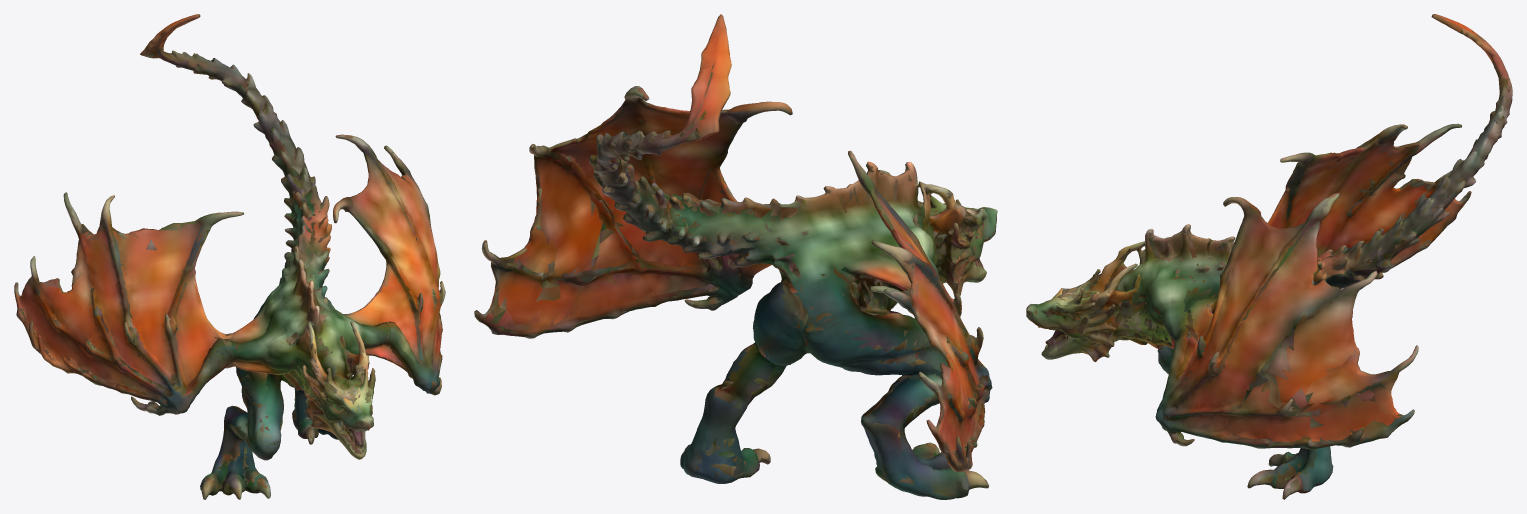
File: Fabulous_final.glb
The picture shows the model from 3 angles, left to right: view 1: azimuth 30°, elevation 25°; view 2: azimuth 150°, elevation 25°; view 3: azimuth 270°, elevation 25°; orthographic projection. The views are drawn at different scales.
Visible parts, largest first — view 1: Mesh_0; view 2: Mesh_0; view 3: Mesh_0.
Part boxes in pixels (x1,y1,x2,y2): Mesh_0: (14, 14, 445, 499); Mesh_0: (474, 14, 997, 499); Mesh_0: (1026, 14, 1512, 499).
Size of the model in its own units: 3.83 by 4 by 4.02.
1 material, 1 textured.
